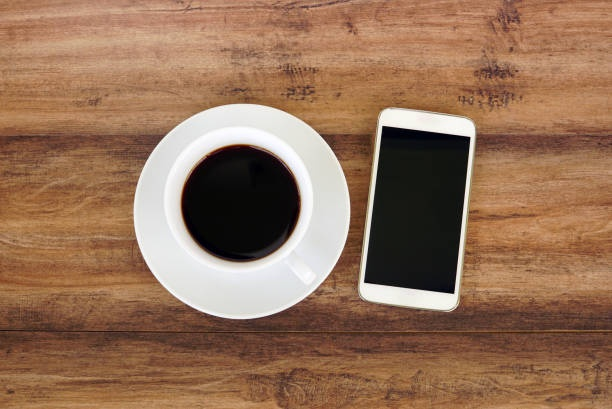phone: (360, 104, 478, 320)
